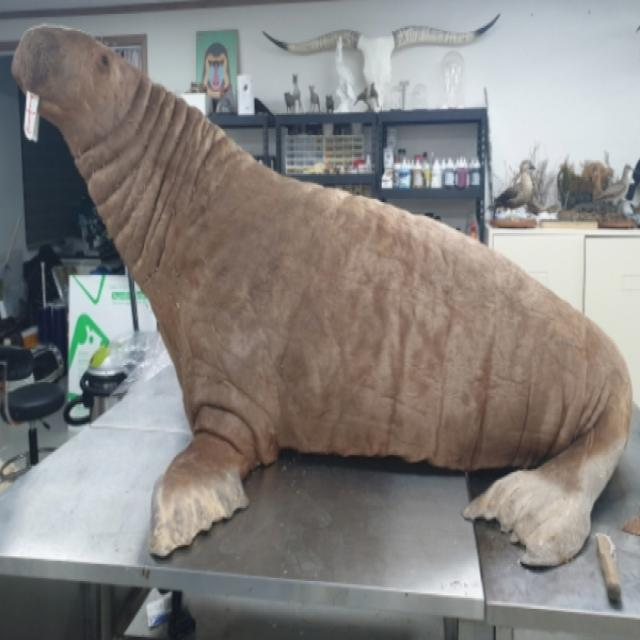walrus: (12, 13, 624, 604)
